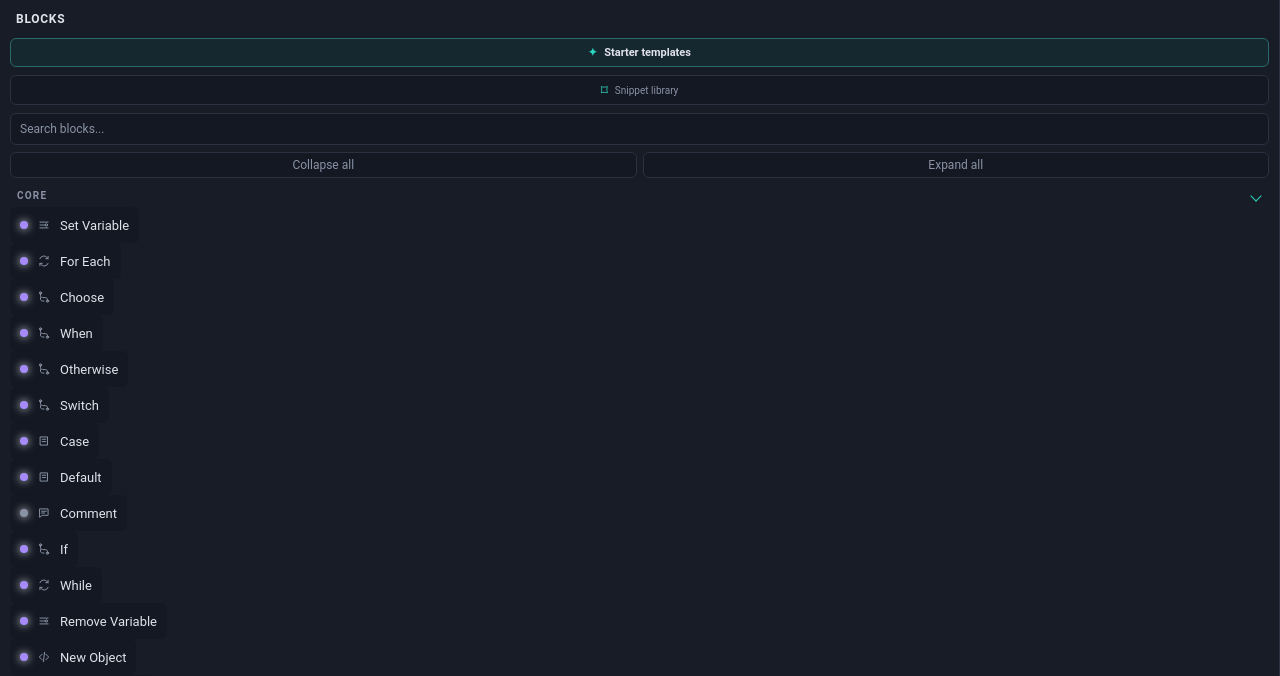
palette › collapses and expands all categories
The image size is (1280, 676).
Click the button "Collapse all". click: (323,165)
box: x1=10 y1=152 x2=636 y2=178
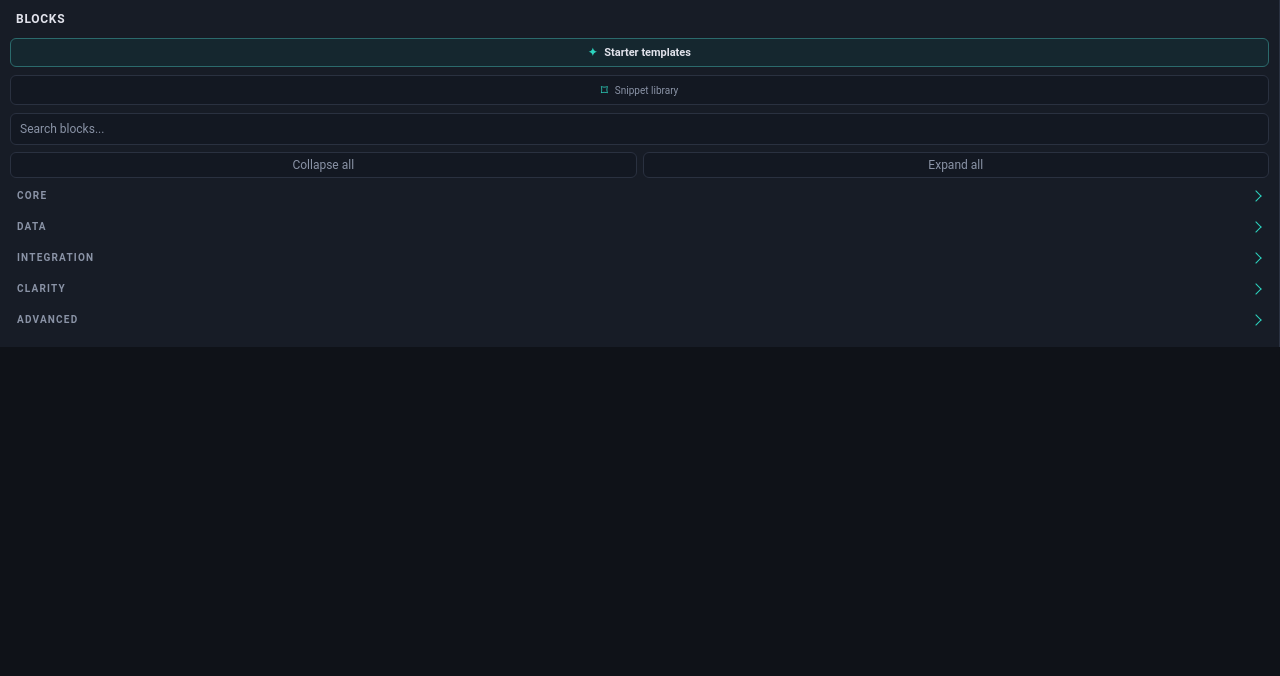
Expected: the button "Set Variable" is gone
Click the button "Expand all". click: (956,165)
box: x1=642 y1=152 x2=1269 y2=178
(page scrolled)
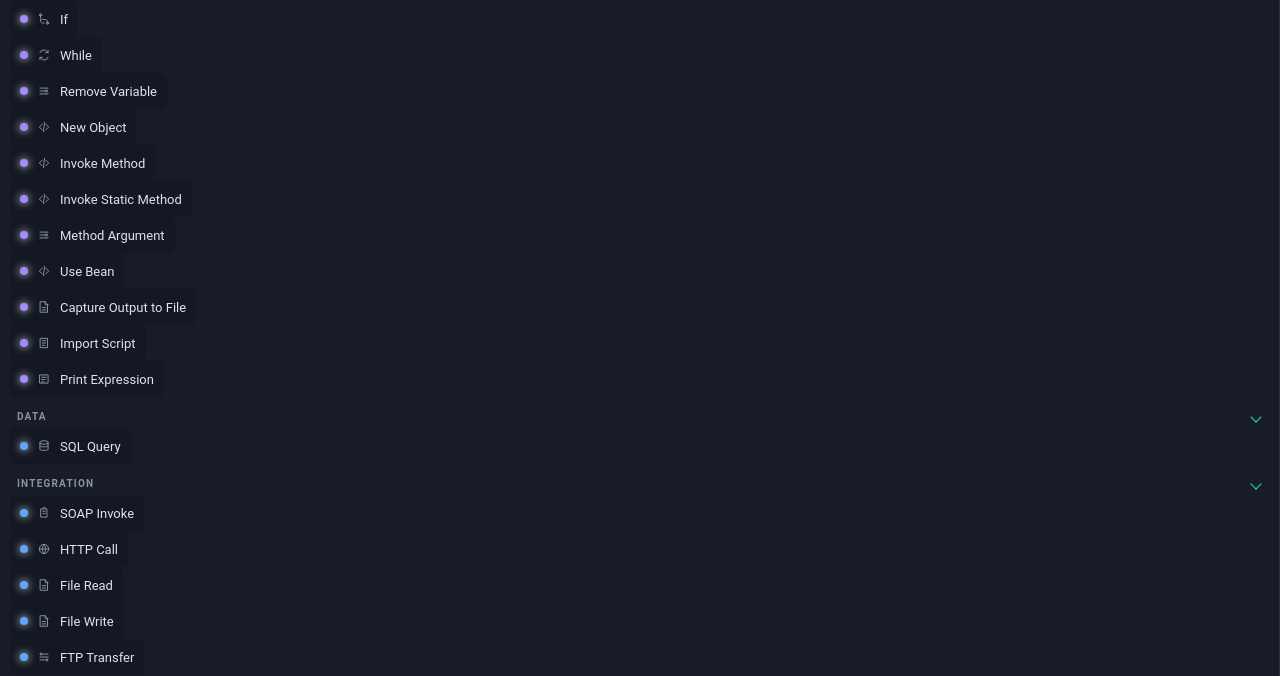
Expected: the text "SQL Query" is shown, x1=60 y1=438 x2=121 y2=454
